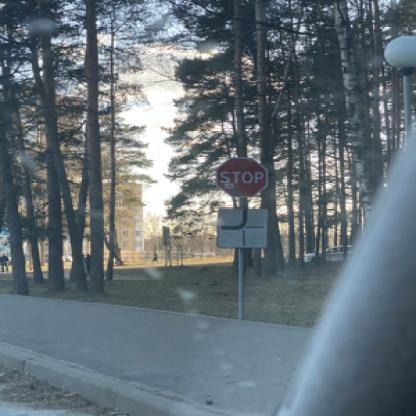Stop: (218, 157, 268, 197)
